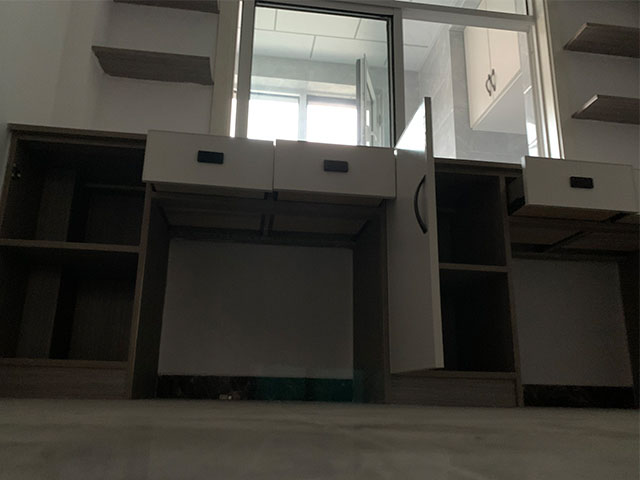cabinet: (2, 122, 640, 409)
